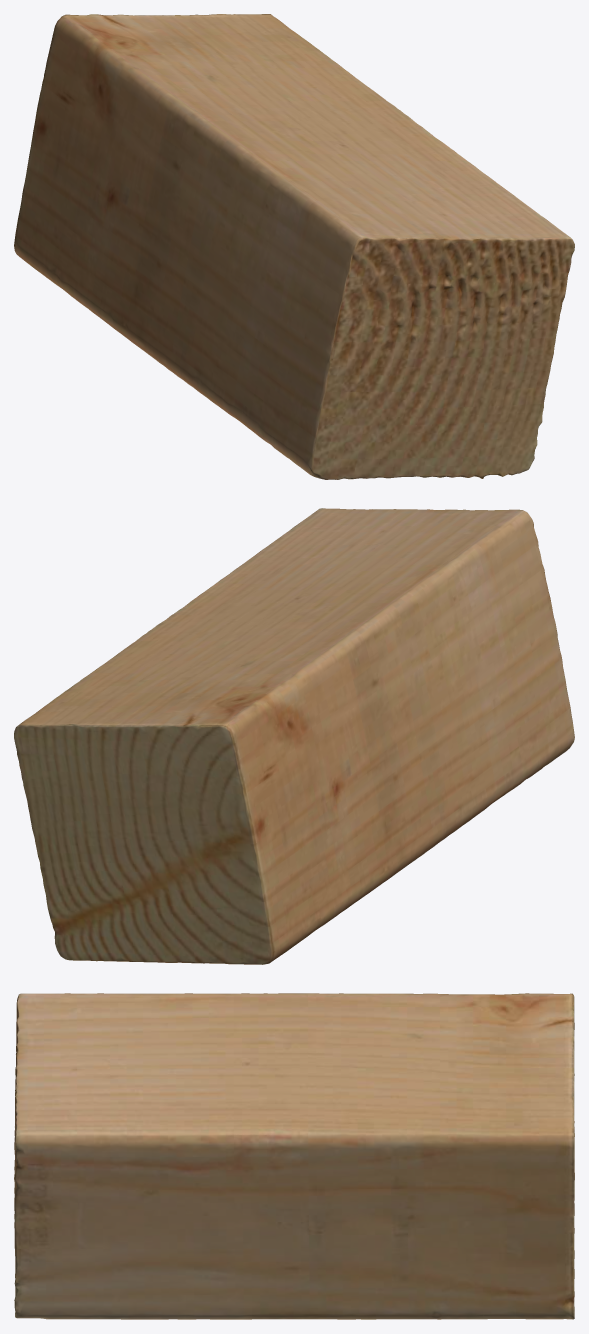
File: ddg-ycb_036_wood_block.glb
3 renders of one model, top to bottom at view 1: azimuth 30°, elevation 25°; view 2: azimuth 150°, elevation 25°; view 3: azimuth 270°, elevation 25°, orthographic. The views are drawn at different scales.
Parts seen in each view (by area): view 1: textured(Clone); view 2: textured(Clone); view 3: textured(Clone).
Boxes of the visible parts, left/top/right/bottom form: textured(Clone): left=14, top=14, right=574, bottom=479; textured(Clone): left=14, top=508, right=574, bottom=964; textured(Clone): left=14, top=993, right=574, bottom=1319.
Size of the model in its own units: 0.8534 by 0.8497 by 1.69.
Materials: 1 (1 with a texture image).
